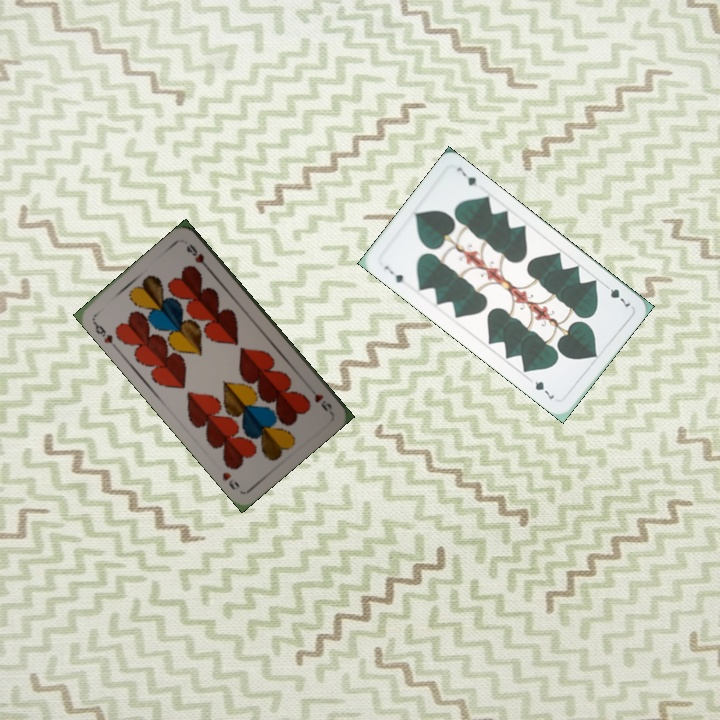G7: (599, 279, 633, 310), (380, 261, 410, 289)
H9: (304, 382, 335, 415), (89, 317, 119, 351)
